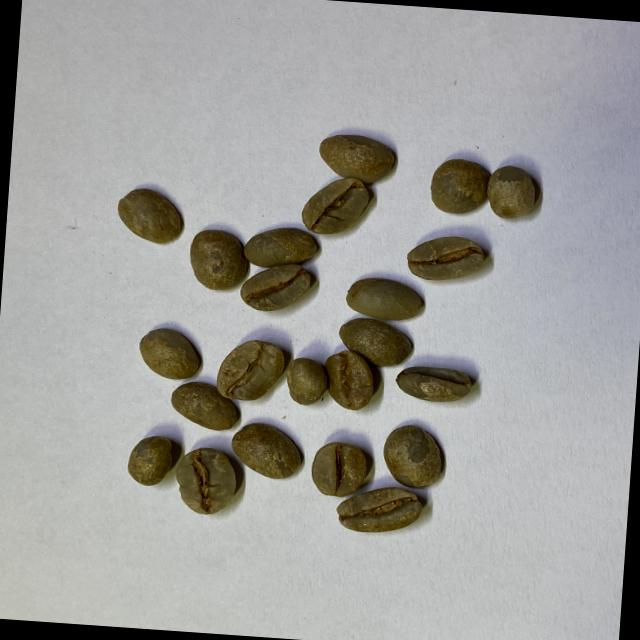bad: (299, 175, 373, 238), (322, 349, 379, 413)
good: (174, 444, 240, 516), (228, 420, 304, 482), (380, 422, 448, 491), (214, 336, 284, 402), (335, 486, 425, 536), (186, 226, 250, 293), (114, 186, 184, 247), (316, 132, 397, 184), (336, 318, 416, 370), (238, 261, 314, 315), (344, 274, 426, 323), (168, 378, 242, 432), (404, 236, 486, 284), (137, 323, 203, 382), (242, 224, 323, 270), (309, 440, 371, 500), (428, 156, 488, 218), (393, 362, 474, 404), (486, 162, 538, 220), (125, 432, 176, 490), (284, 358, 325, 408)
